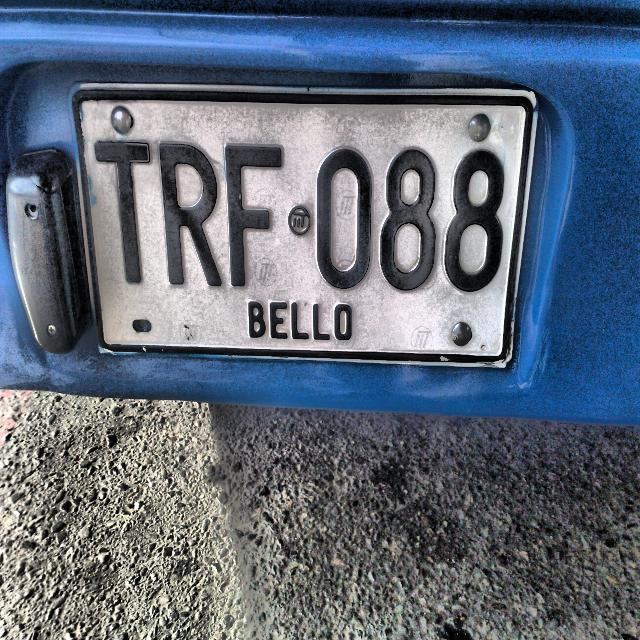plate: (66, 81, 538, 367)
